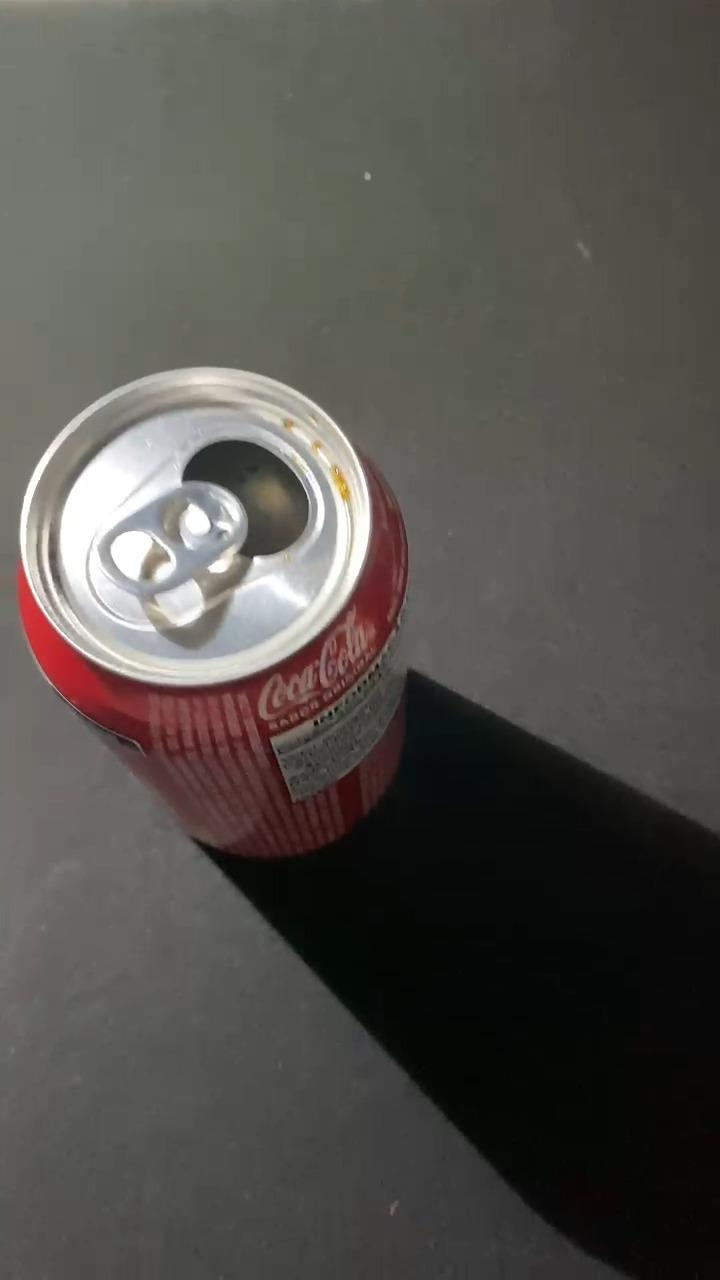coke: (15, 362, 422, 857)
